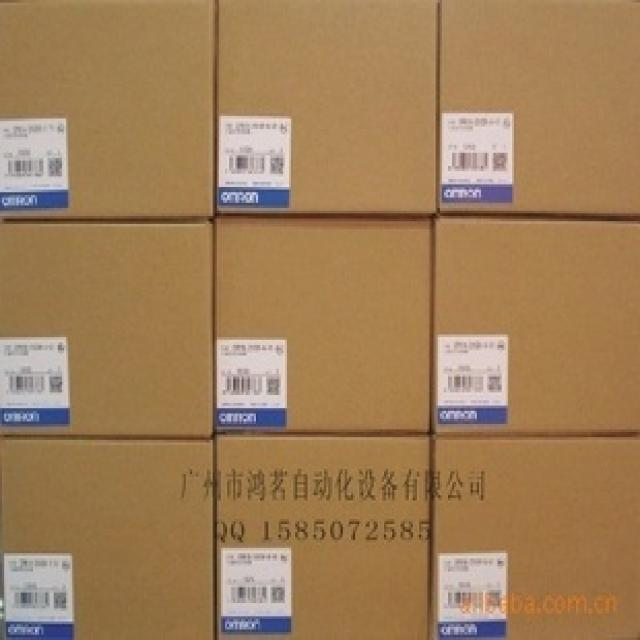box: (217, 0, 440, 216), (213, 219, 434, 435), (0, 219, 215, 437), (434, 216, 640, 437), (215, 435, 431, 640), (438, 0, 640, 219), (0, 437, 215, 640), (429, 435, 640, 640)
